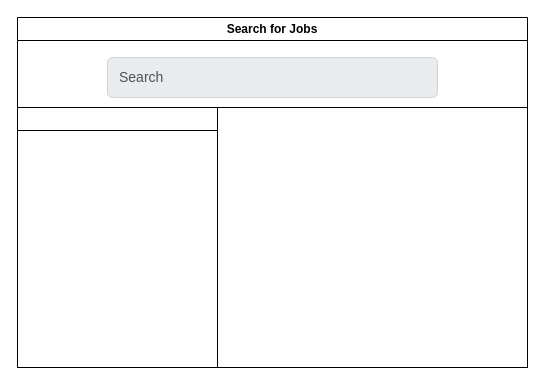
The diagram is 545 pixels wide and 385 high, and some of its shapes have lost their labels. The shapes that lost their labels are listed below. From the top down, each one's centre as x and y in pixels, then its label:
At point 117,237: "Filter Parameters".
At point 372,237: "Search Results".
